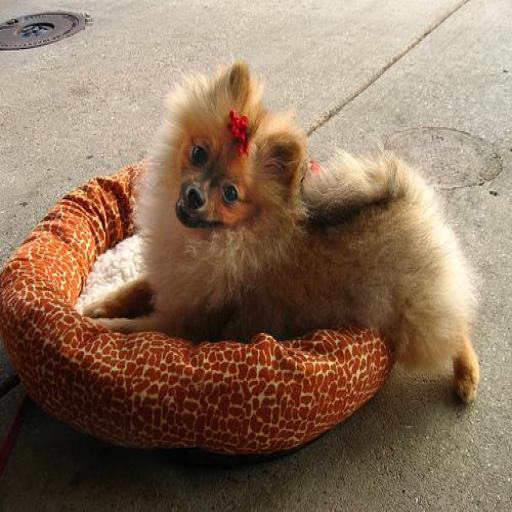dog_face: (163, 69, 294, 229)
